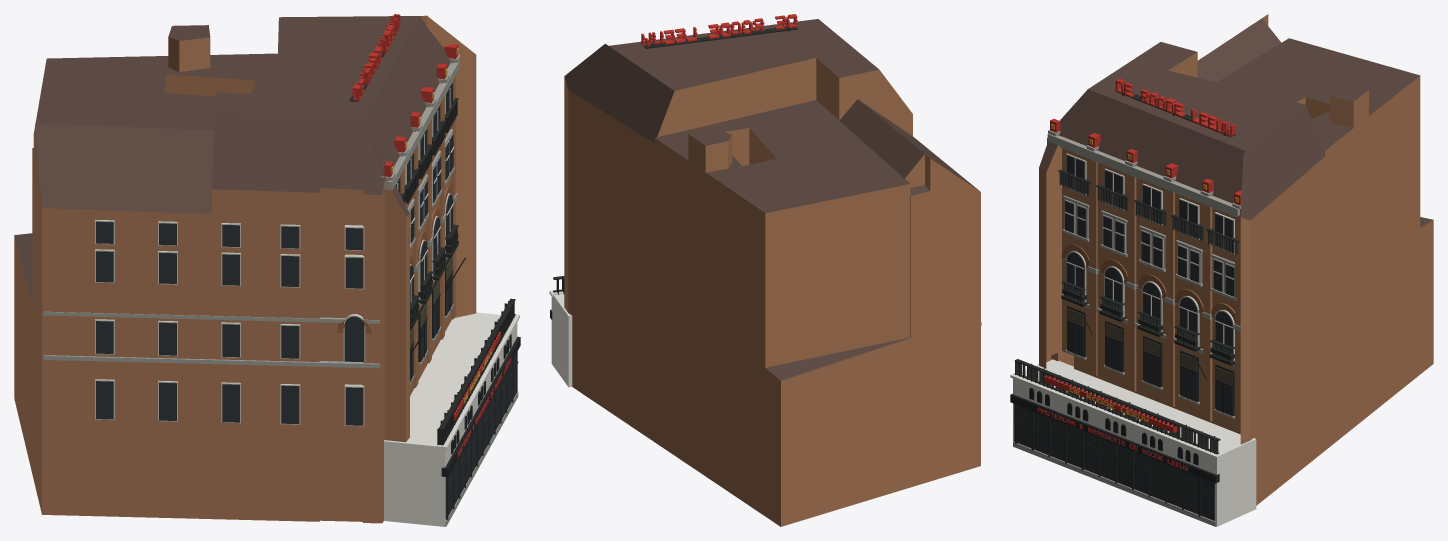
File: roode-leeuw-damrak.glb
The picture shows the model from 3 angles, left to right: view 1: azimuth 30°, elevation 25°; view 2: azimuth 150°, elevation 25°; view 3: azimuth 270°, elevation 25°; orthographic projection. The views are drawn at different scales.
Visible parts, largest first — view 1: roode-leeuw-damrak; view 2: roode-leeuw-damrak; view 3: roode-leeuw-damrak.
Part boxes in pixels (x1,y1,x2,y2): roode-leeuw-damrak: [14, 14, 520, 526]; roode-leeuw-damrak: [549, 14, 981, 526]; roode-leeuw-damrak: [1010, 14, 1433, 526].
Size of the model in its own units: 28.09 by 22.45 by 24.35.
